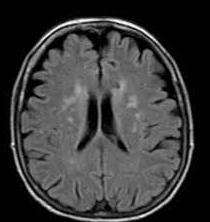Normal_Brain: (1, 1, 196, 213)
